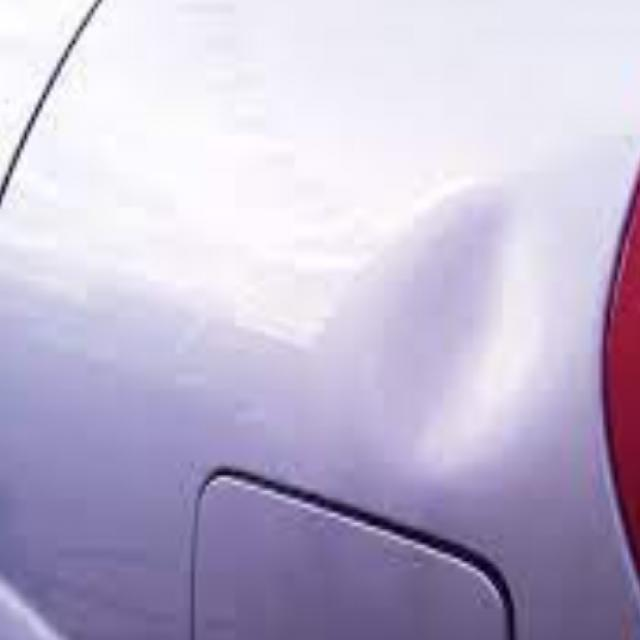dents: (343, 174, 564, 486)
